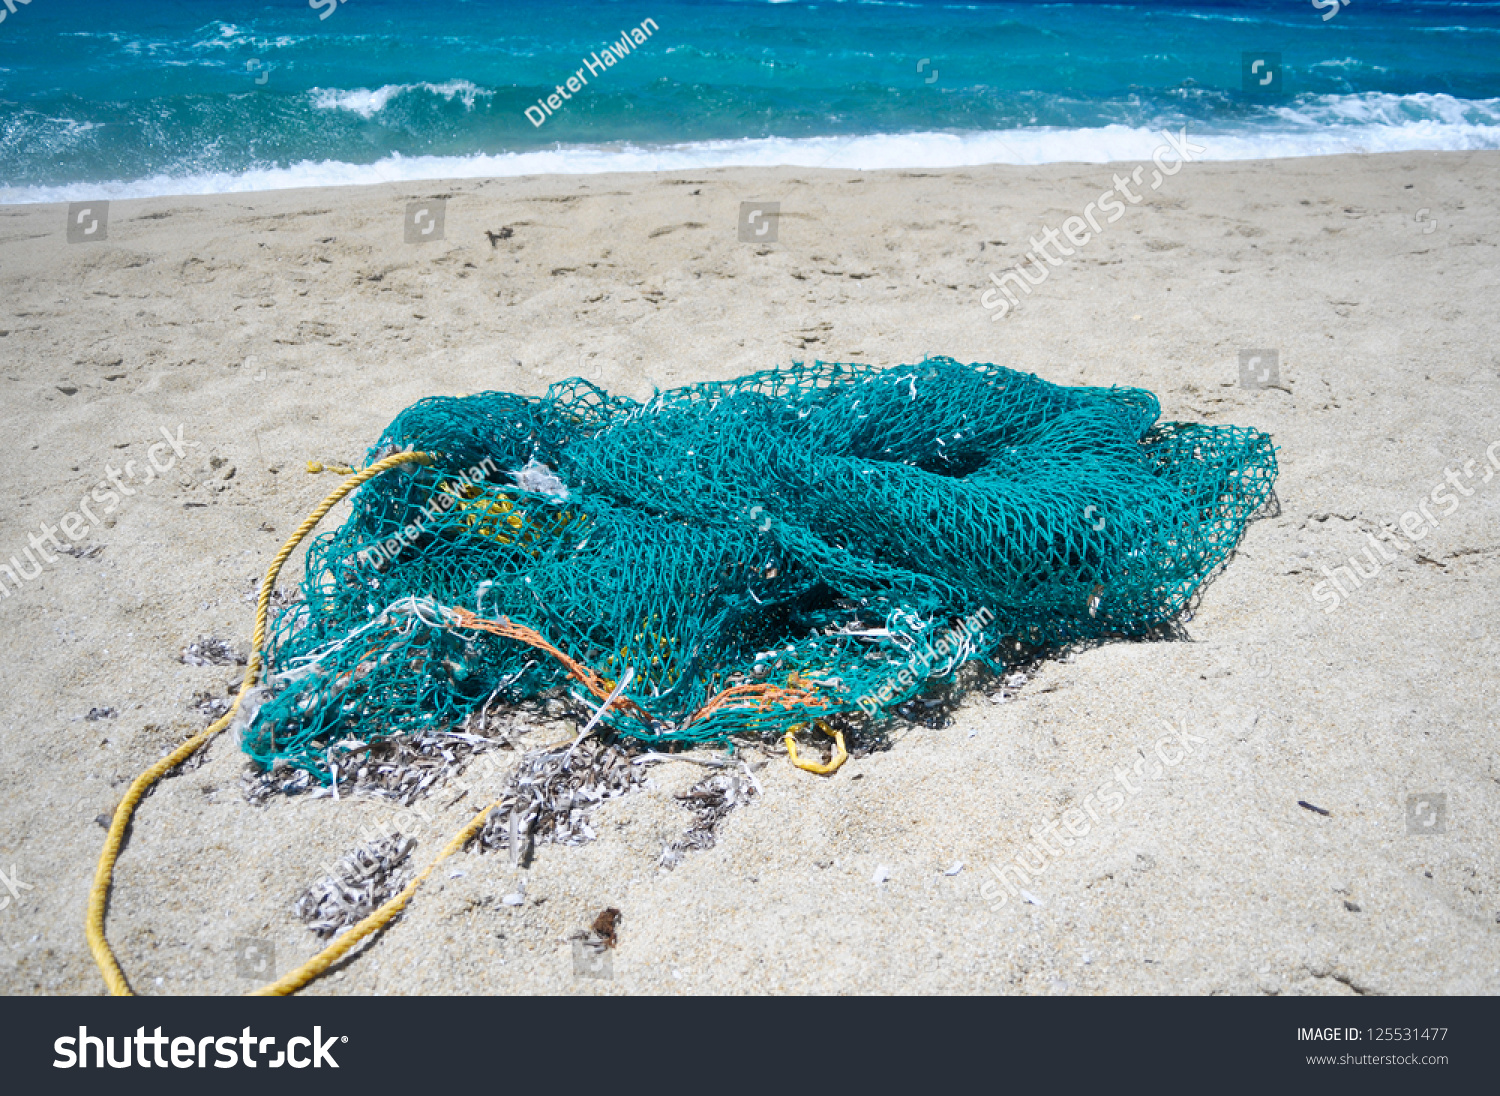fishingnet: (236, 352, 1287, 801)
